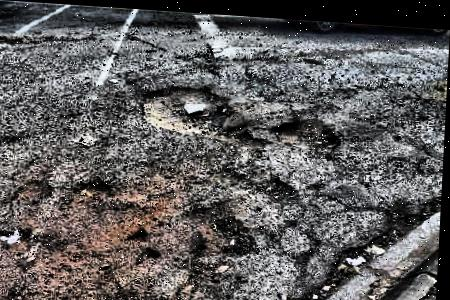pothole: (279, 202, 441, 300), (139, 80, 240, 137), (270, 110, 342, 154), (194, 211, 261, 255)
